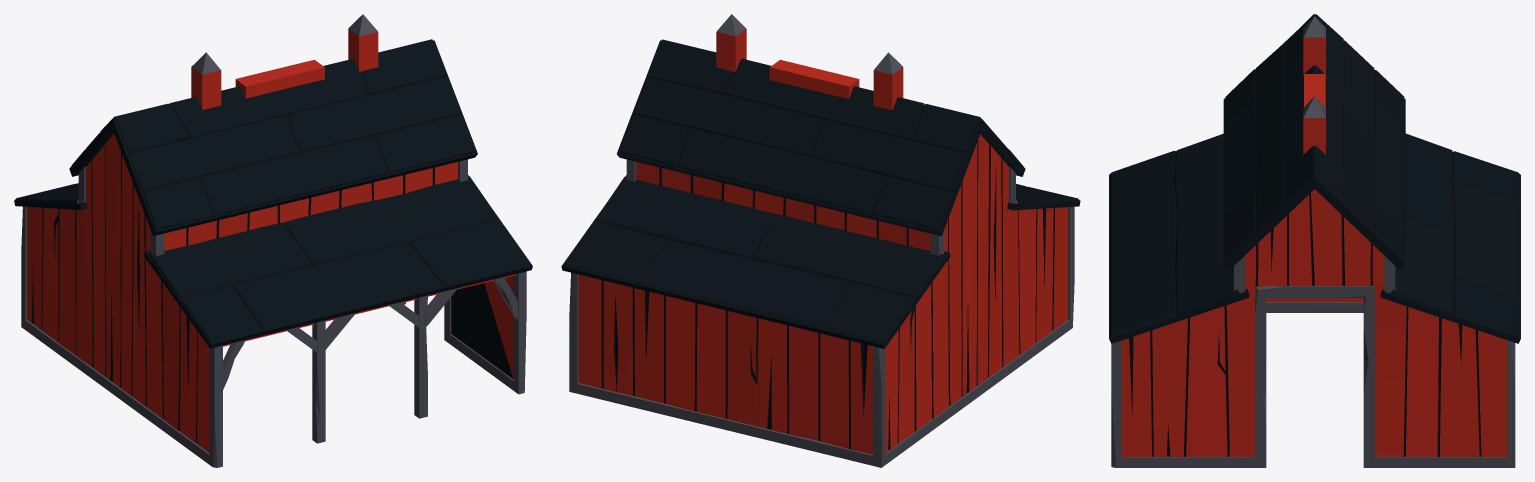
File: Shed_3_1.fbx
3 views of the same model, side by side, from view 1: azimuth 30°, elevation 25°; view 2: azimuth 150°, elevation 25°; view 3: azimuth 270°, elevation 25° (orthographic). The views are drawn at different scales.
Visible parts, largest first — view 1: Shed_3_1; view 2: Shed_3_1; view 3: Shed_3_1.
Part boxes in pixels (<box>): Shed_3_1: <box>14,14,532,467</box>; Shed_3_1: <box>561,14,1080,467</box>; Shed_3_1: <box>1109,14,1520,467</box>.
Bounding box in the file's own units: 247 × 238 × 262.
